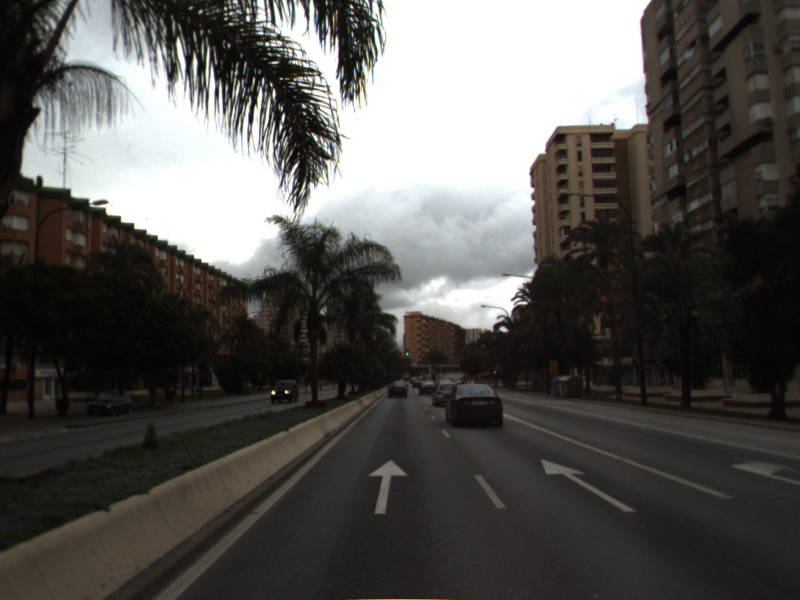RIGHT: (728, 455, 800, 486)
STRAIGHT: (539, 457, 639, 514), (365, 457, 410, 516)
